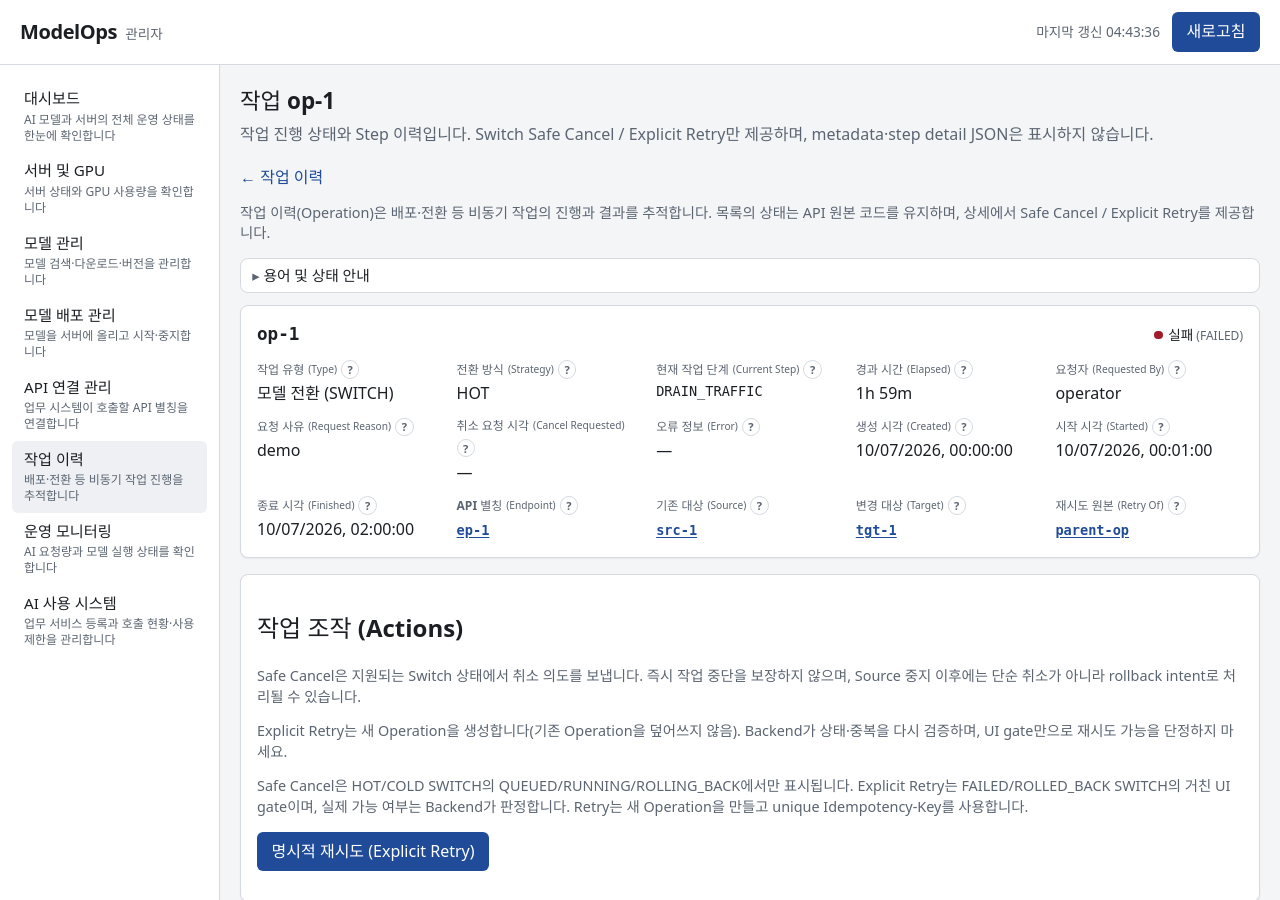
Test: OperationDetailPage › disables Explicit Retry while refresh is in flight
expect the button "명시적 재시도 (Explicit Retry)" is shown: met, box [257, 832, 489, 871]
Click the button "새로고침": (1216, 32) [1172, 12, 1260, 52]
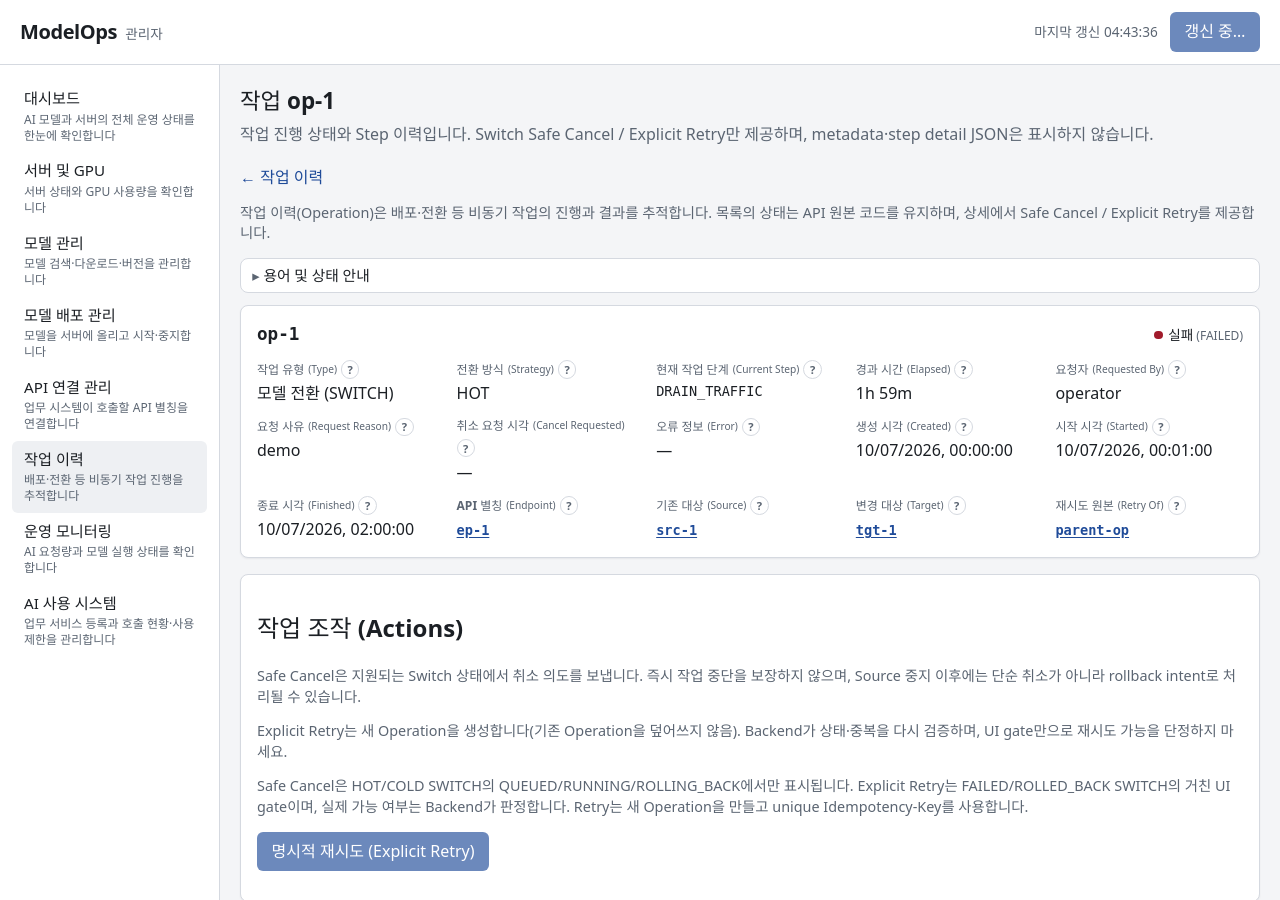
expect the button "갱신 중…" is disabled: met, box [1170, 12, 1260, 52]
expect the button "명시적 재시도 (Explicit Retry)" is disabled: met
Click the button "명시적 재시도 (Explicit Retry)": (373, 852) [257, 832, 489, 871]
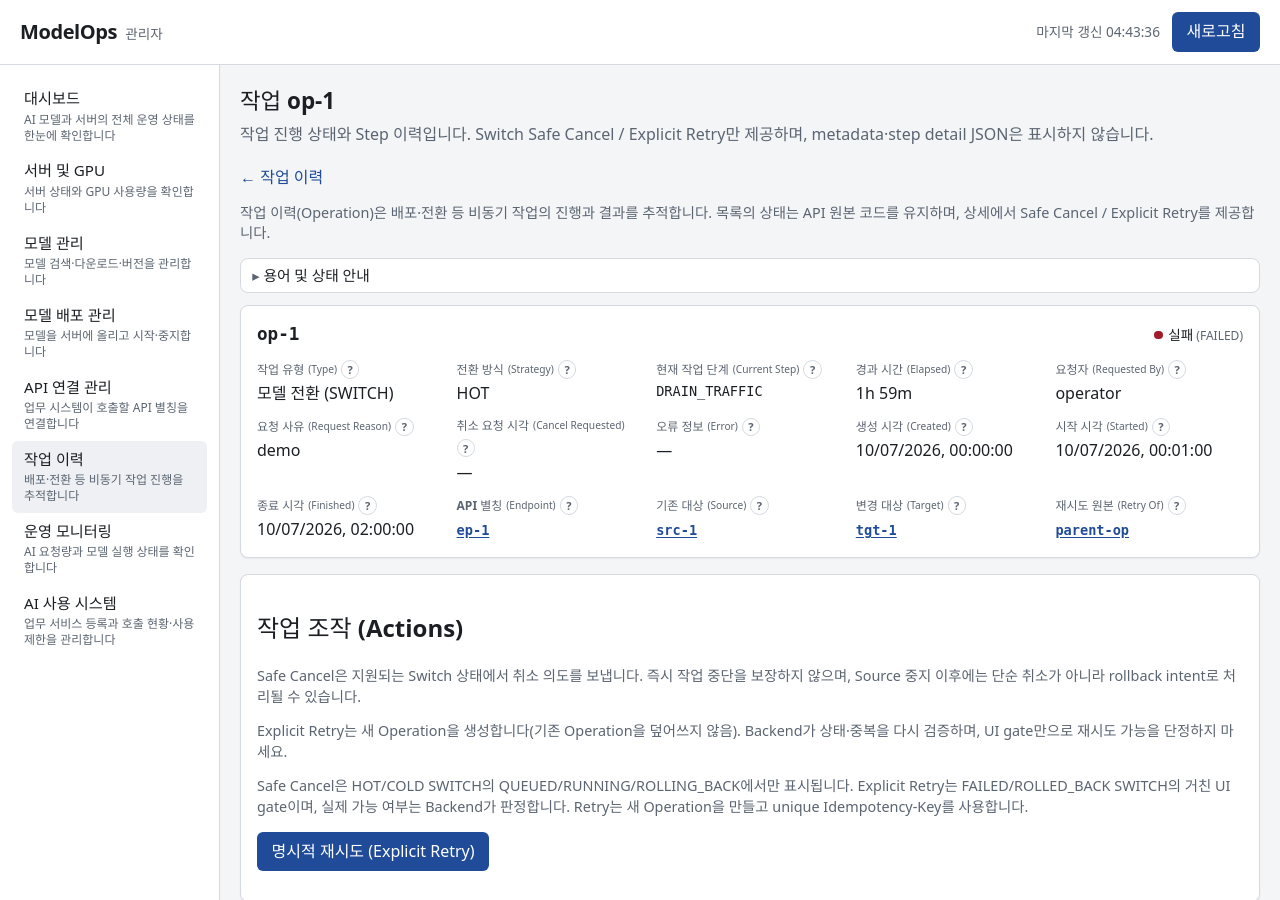
expect the button "명시적 재시도 (Explicit Retry)" is enabled: met, box [257, 832, 489, 871]
